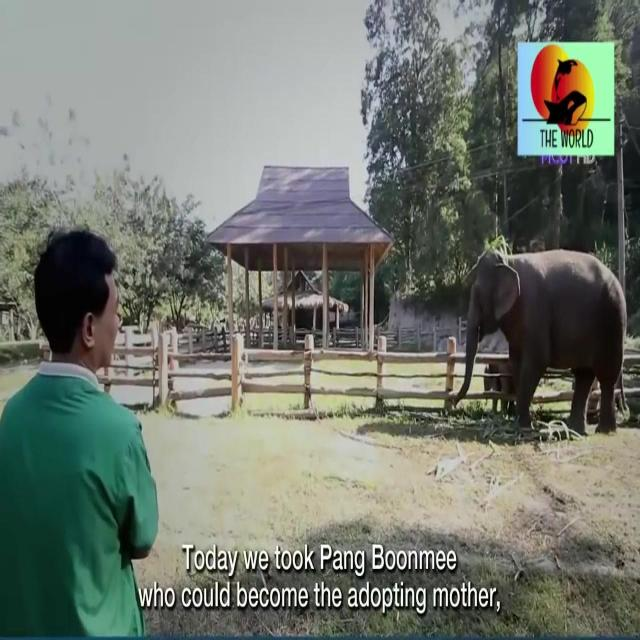Elephant: (470, 254, 607, 372)
